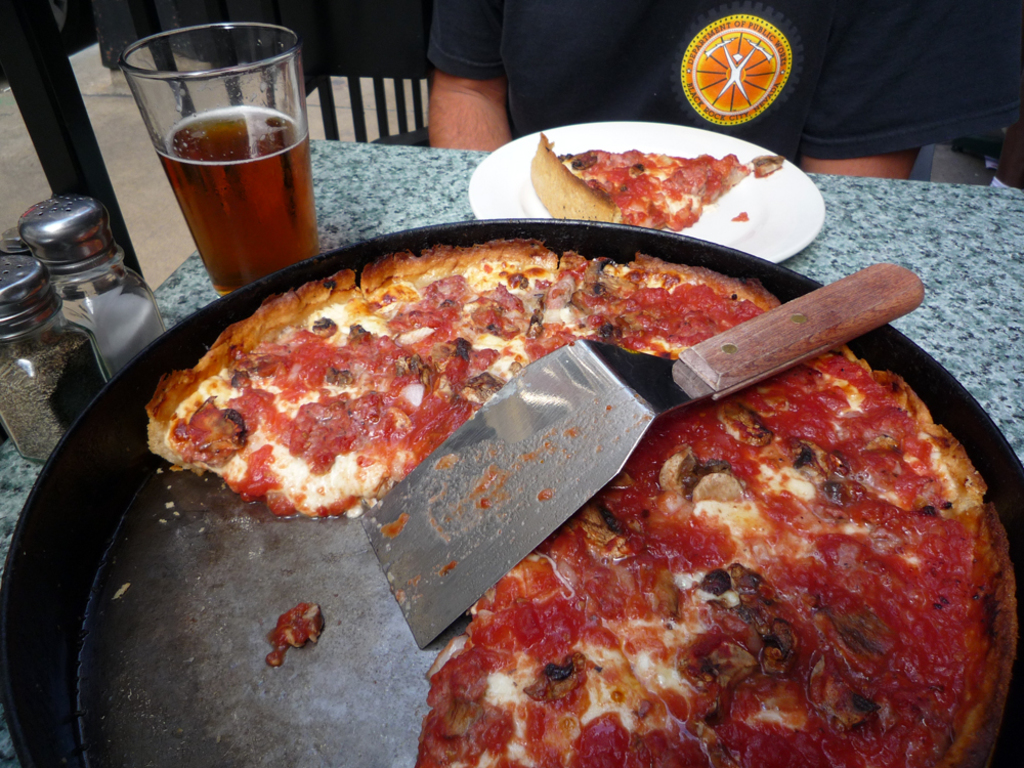Pizza: (407, 501, 799, 762), (606, 505, 1003, 758), (139, 271, 493, 503), (616, 336, 982, 516), (364, 233, 551, 388), (561, 237, 794, 344), (538, 123, 769, 221)
